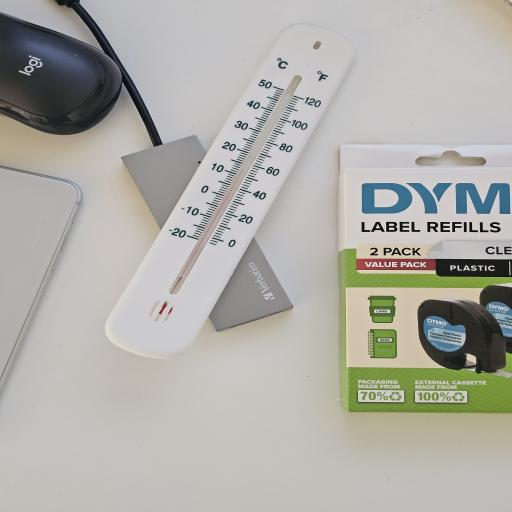thermometer: (104, 22, 357, 360)
